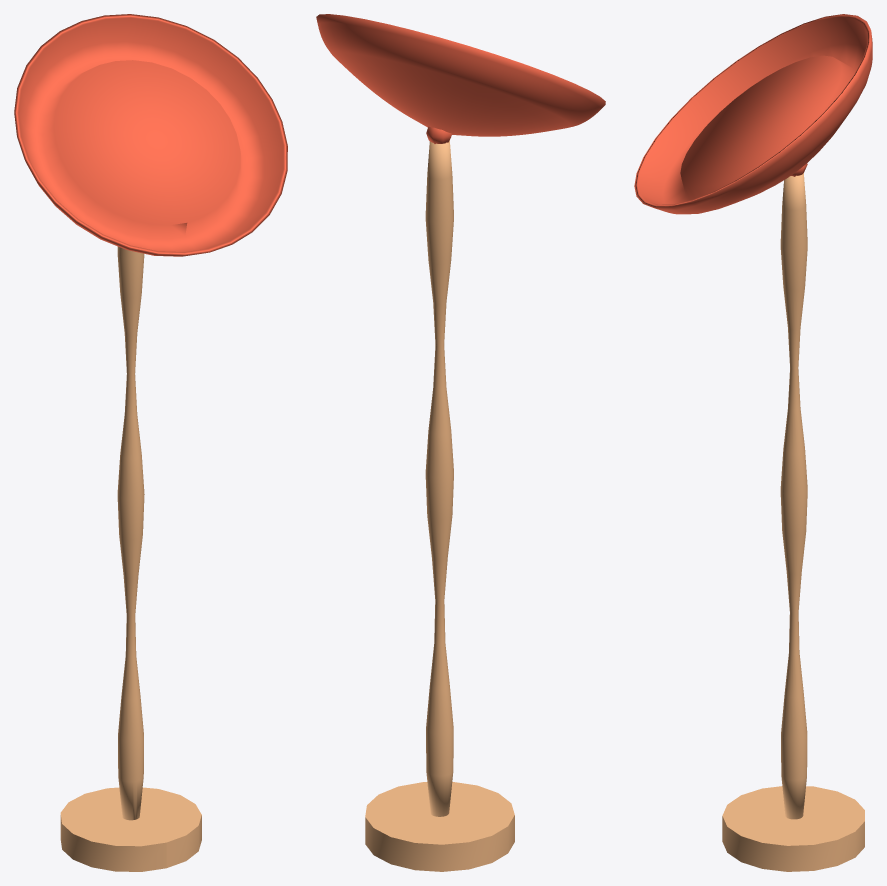
The model's file is Floor Lamps.glb.
The picture shows the model from 3 angles, left to right: view 1: azimuth 30°, elevation 25°; view 2: azimuth 150°, elevation 25°; view 3: azimuth 270°, elevation 25°; orthographic projection. The views are drawn at different scales.
Visible parts, largest first — view 1: Cylindrical Lathe (×2), Cylinder; view 2: Cylindrical Lathe (×2), Cylinder; view 3: Cylindrical Lathe (×2), Cylinder.
Boxes of the visible parts, x1=… form: Cylindrical Lathe (×2): x1=14, y1=14, x2=287, y2=820; Cylinder: x1=60, y1=787, x2=201, y2=871; Cylindrical Lathe (×2): x1=316, y1=14, x2=605, y2=816; Cylinder: x1=365, y1=781, x2=514, y2=871; Cylindrical Lathe (×2): x1=634, y1=14, x2=872, y2=819; Cylinder: x1=722, y1=786, x2=864, y2=871.
Size of the model in its own units: 0.6044 by 1.86 by 0.4974.
